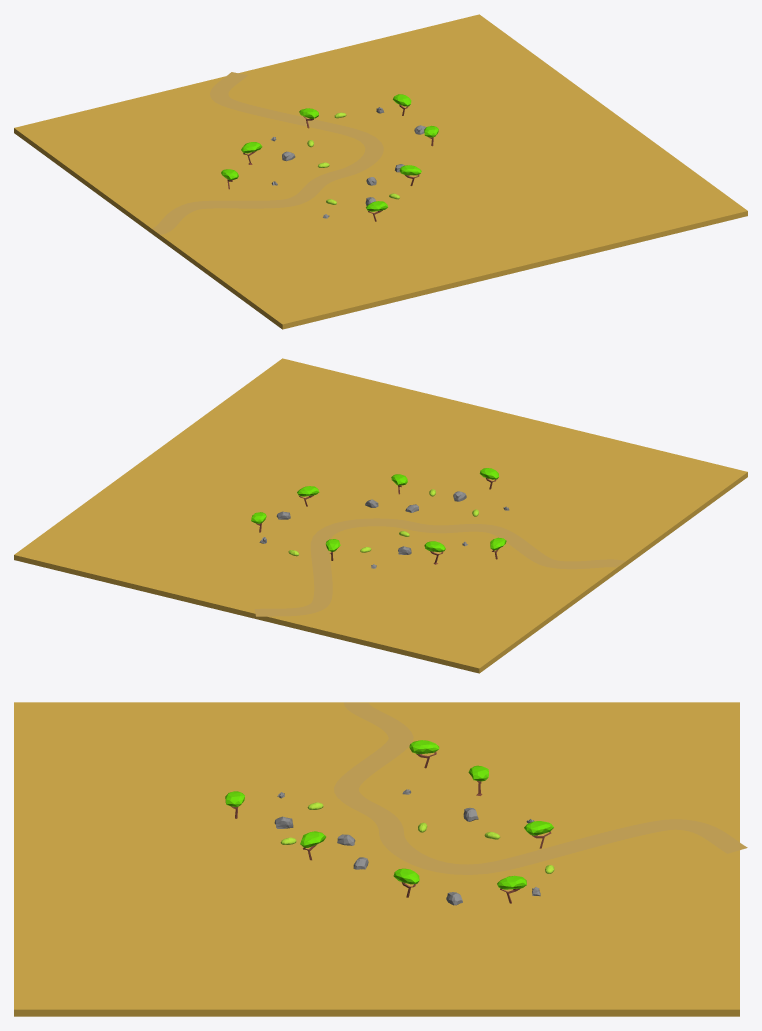
Rendered from area_Savannah.fbx.
3 renders of one model, top to bottom at view 1: azimuth 30°, elevation 25°; view 2: azimuth 150°, elevation 25°; view 3: azimuth 270°, elevation 25°, orthographic. The views are drawn at different scales.
Parts seen in each view (by area): view 1: Savannah Base, MainRoad; view 2: Savannah Base, MainRoad; view 3: Savannah Base, MainRoad.
Boxes of the visible parts, x1,y1,x2,y2 form: Savannah Base: [14, 14, 747, 329]; MainRoad: [152, 72, 383, 234]; Savannah Base: [14, 358, 747, 673]; MainRoad: [254, 518, 625, 616]; Savannah Base: [14, 702, 739, 1016]; MainRoad: [334, 702, 747, 874].
Size of the model in its own units: 302 by 15.6 by 305.
